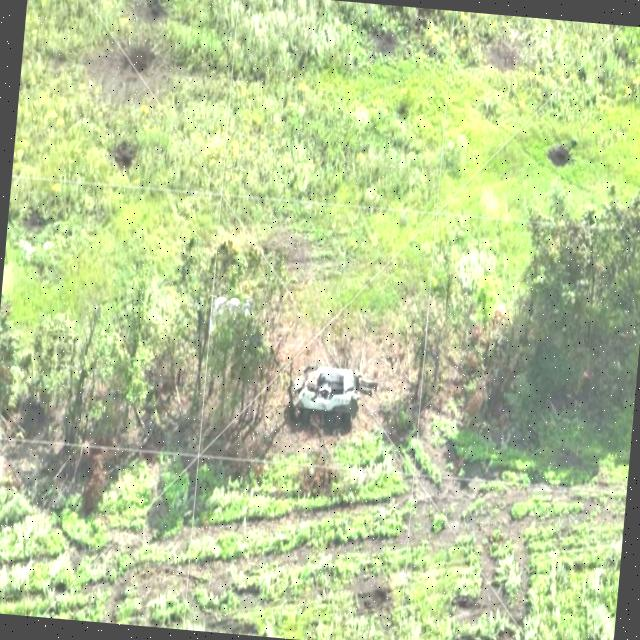APC: (287, 364, 361, 426)
